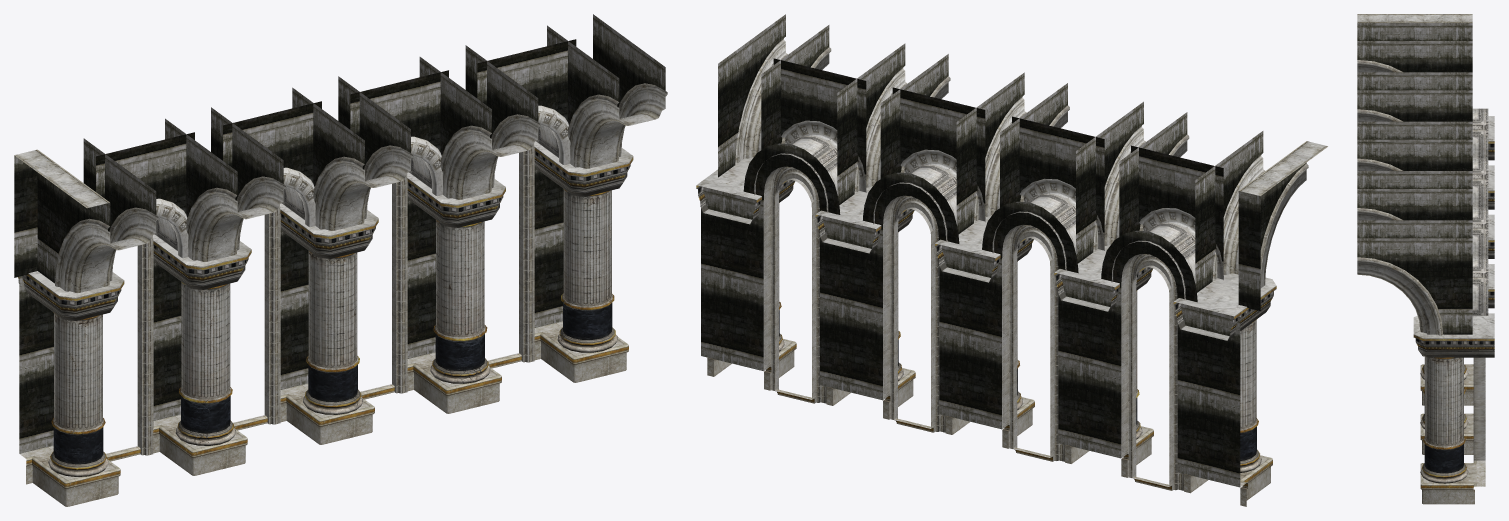
File: KnightCastle_Hallway_Pillar_02.FBX
3 renders of one model, left to right at view 1: azimuth 30°, elevation 25°; view 2: azimuth 150°, elevation 25°; view 3: azimuth 270°, elevation 25°, orthographic. The views are drawn at different scales.
Visible parts, largest first — view 1: SM_KnightCastle_Hallway_Pillar_02; view 2: SM_KnightCastle_Hallway_Pillar_02; view 3: SM_KnightCastle_Hallway_Pillar_02.
Part boxes in pixels (x1,y1,x2,y2): SM_KnightCastle_Hallway_Pillar_02: (14,14,667,506); SM_KnightCastle_Hallway_Pillar_02: (696,14,1327,506); SM_KnightCastle_Hallway_Pillar_02: (1357,14,1494,504).
Size of what is drawn, in the model's own units: 2594 by 660 by 1404.
